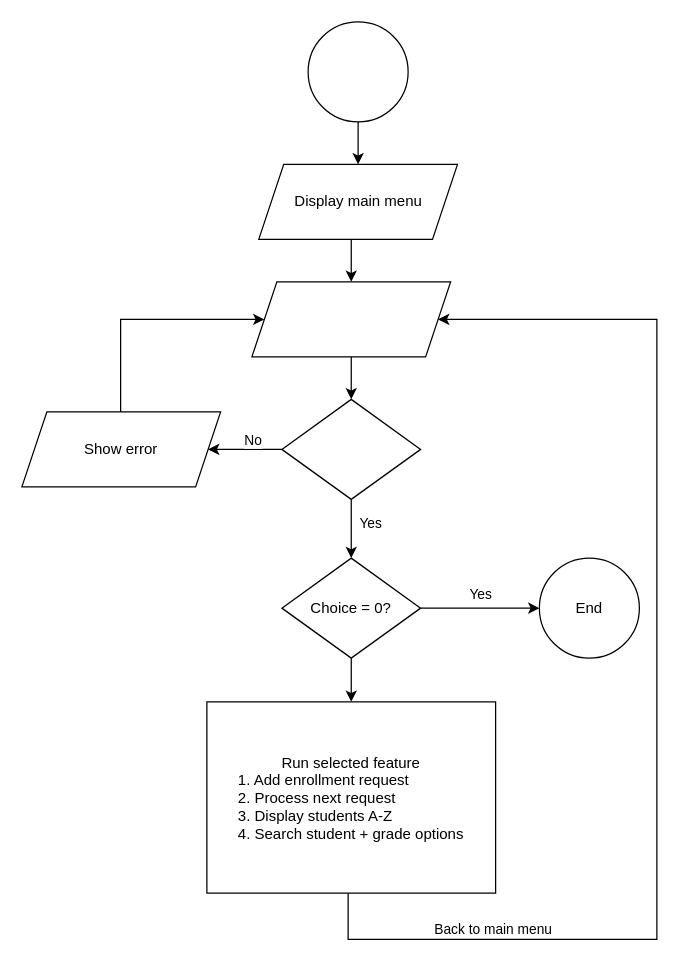
This 689x971 diagram has some shape labels left out. Each missing label, with the centre of its shape:
"Enter choice (0-4)" goes at pixel 351 319.
"Start" goes at pixel 357 71.
"Valid choice?" goes at pixel 351 448.
